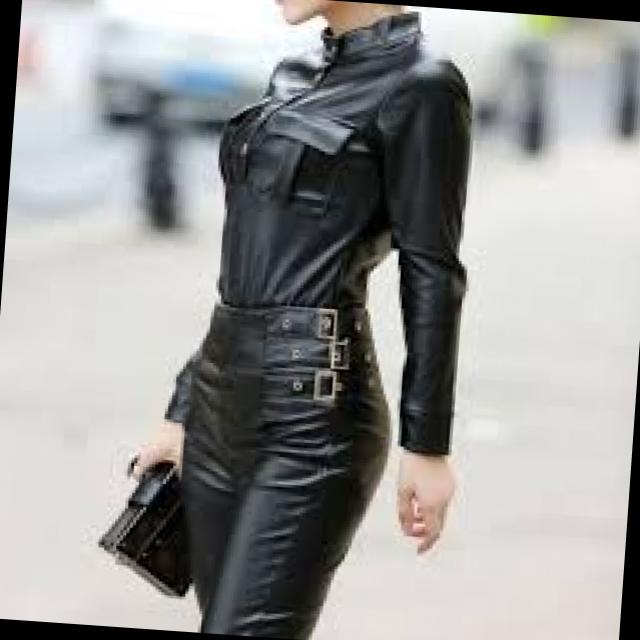Jacket: (180, 20, 493, 438)
